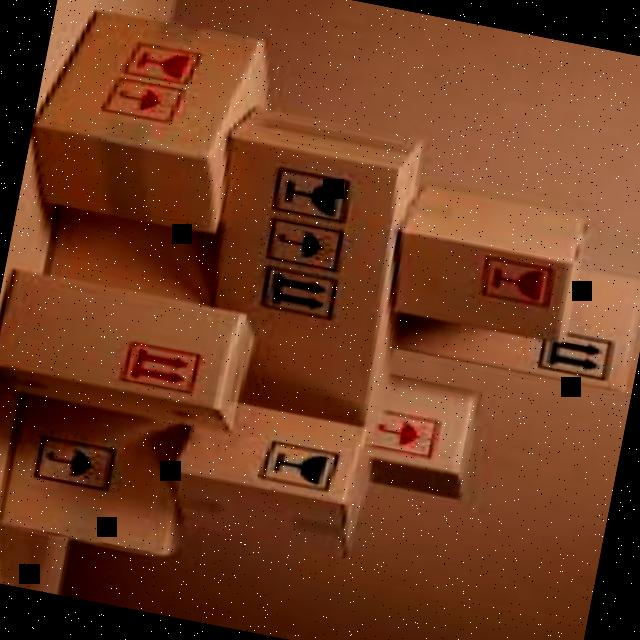cardboard_box: (0, 57, 257, 561), (186, 99, 439, 438), (18, 0, 276, 243), (144, 380, 402, 580), (0, 258, 257, 450), (384, 228, 640, 408), (225, 346, 488, 496), (397, 184, 580, 348)
